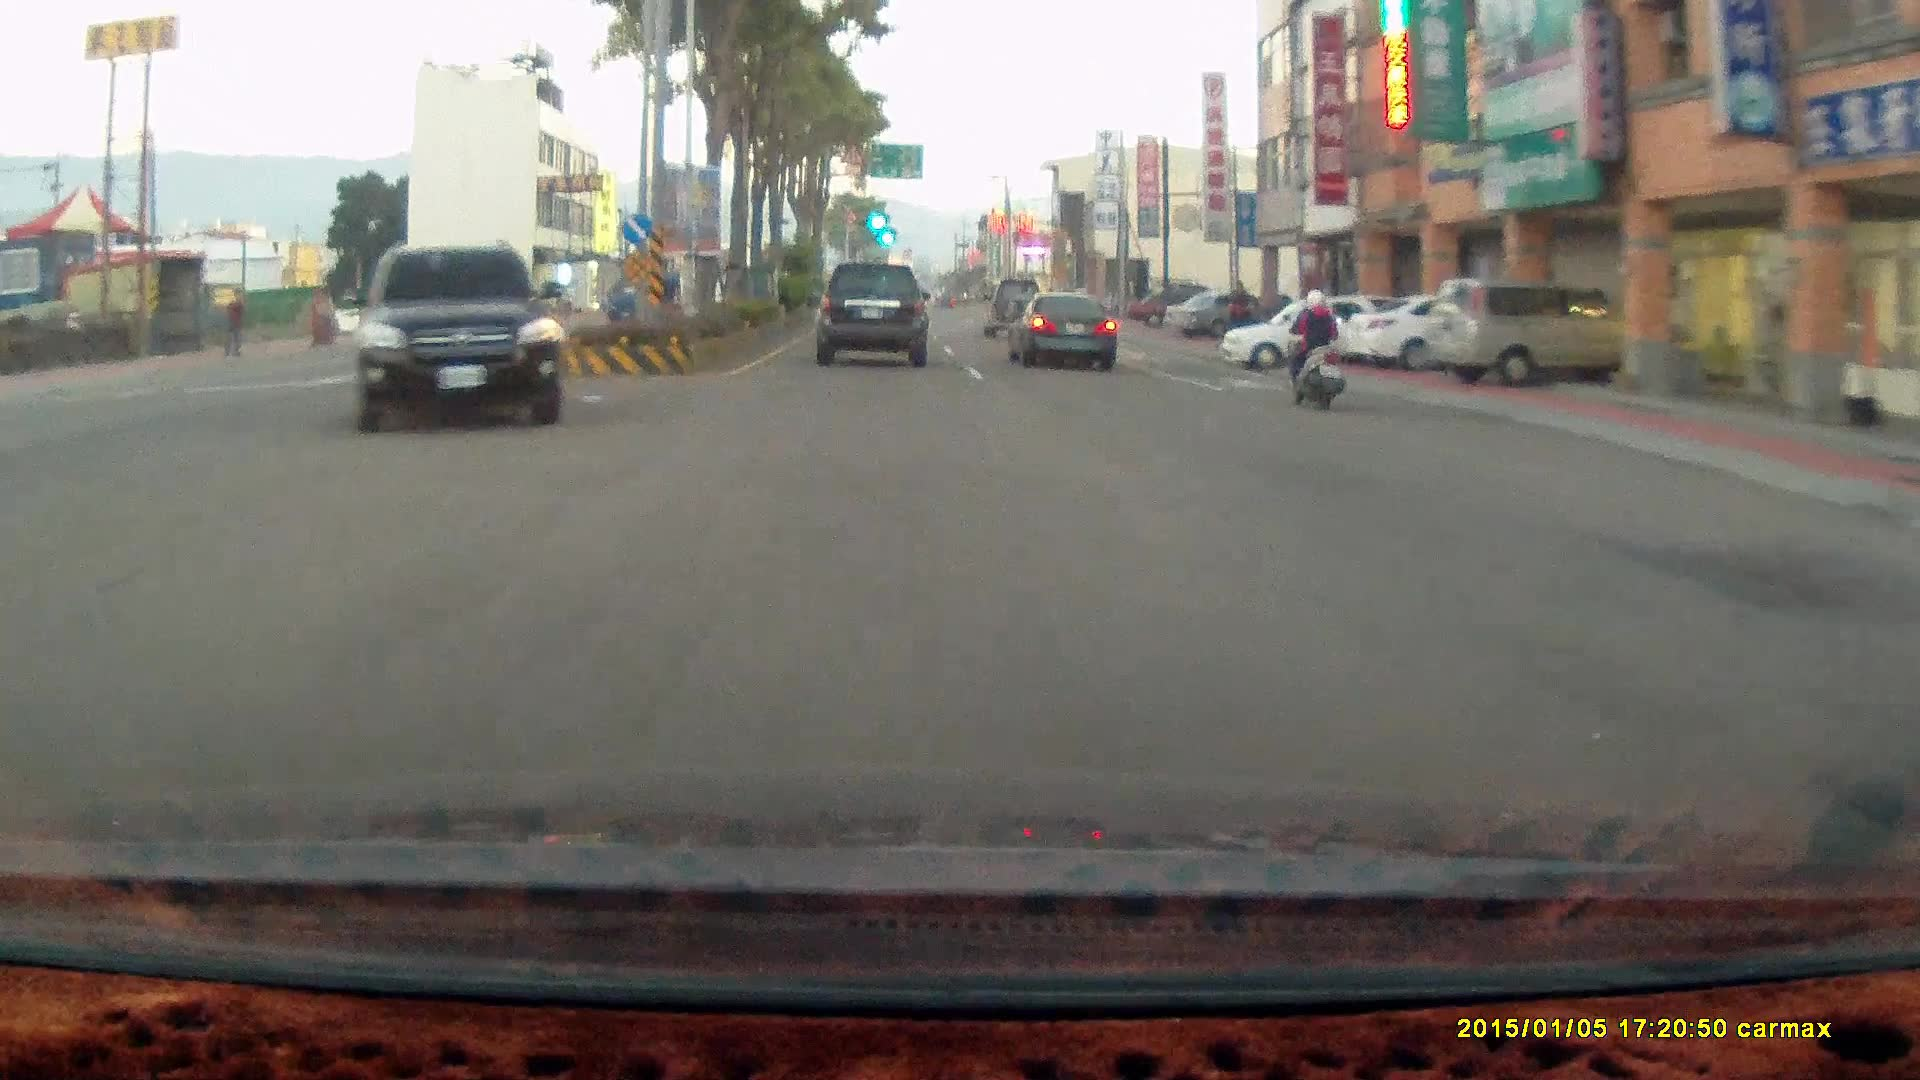pedestrian: (1226, 282, 1255, 347), (221, 289, 245, 360)
rider: (1275, 283, 1355, 418), (1283, 292, 1347, 414)
vehicle: (344, 245, 564, 433), (354, 246, 567, 438), (1420, 277, 1654, 385), (1443, 281, 1634, 395), (1345, 296, 1543, 380), (1347, 290, 1549, 371), (1223, 302, 1407, 377), (1220, 295, 1401, 372), (812, 261, 936, 372), (814, 263, 929, 368), (1008, 299, 1127, 378), (1006, 291, 1117, 372), (1162, 293, 1267, 338), (979, 279, 1047, 337), (1126, 288, 1219, 329)
